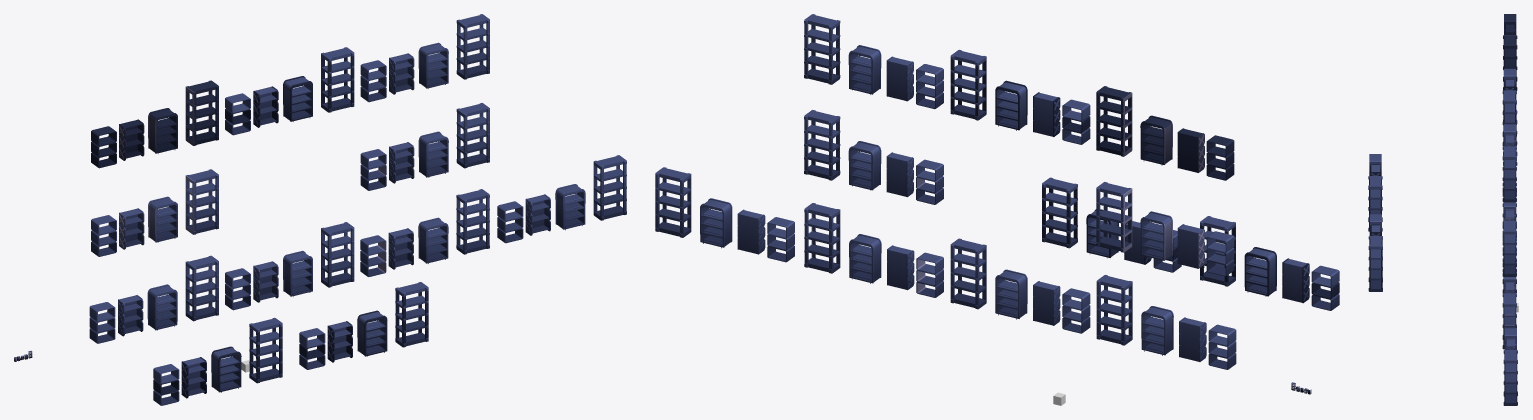
The model's file is Shelf5Layer.fbx.
3 renders of one model, left to right at view 1: azimuth 30°, elevation 25°; view 2: azimuth 150°, elevation 25°; view 3: azimuth 270°, elevation 25°, orthographic. The views are drawn at different scales.
Visible parts, largest first — view 1: Shelf.012, Shelf.4, Shelf.032, Shelf.036, Shelf.020, Shelf.016, Shelf.044, Shelf.008, Shelf.024, Shelf.028, Shelf.040, Shelf.023 (+32 smaller); view 2: Shelf.016, Shelf.032, Shelf.4, Shelf.020, Shelf.008, Shelf.036, Shelf.012, Shelf.040, Shelf.028, Shelf.044, Shelf.007, Shelf.015 (+30 smaller); view 3: Shelf.040, Shelf.008, Shelf.028, Shelf.044, Shelf.024, Shelf.016, Shelf.036, Shelf.032, Shelf.033, Shelf.037, Shelf.005, Shelf.041 (+2 smaller).
Boxes of the visible parts, box(x1,y1,x2,y2) form: Shelf.012: box(185, 255, 218, 321); Shelf.4: box(185, 169, 218, 234); Shelf.032: box(185, 80, 218, 145); Shelf.036: box(321, 47, 354, 112); Shelf.020: box(321, 222, 354, 287); Shelf.016: box(456, 189, 489, 254); Shelf.044: box(395, 282, 428, 347); Shelf.008: box(593, 155, 626, 220); Shelf.024: box(249, 317, 282, 383); Shelf.028: box(456, 103, 489, 168); Shelf.040: box(456, 14, 489, 79); Shelf.023: box(211, 346, 241, 392); Shelf.016: box(804, 203, 840, 273); Shelf.032: box(1096, 86, 1132, 156); Shelf.4: box(1096, 182, 1132, 252); Shelf.020: box(950, 238, 986, 309); Shelf.008: box(655, 167, 691, 237); Shelf.036: box(950, 49, 986, 120); Shelf.012: box(1096, 275, 1132, 345); Shelf.040: box(804, 14, 840, 84); Shelf.028: box(804, 110, 840, 180); Shelf.044: box(1042, 177, 1077, 248); Shelf.007: box(700, 198, 732, 248); Shelf.015: box(849, 234, 881, 283); Shelf.040: box(1502, 146, 1516, 202); Shelf.008: box(1503, 350, 1517, 405); Shelf.028: box(1502, 221, 1516, 276); Shelf.044: box(1368, 236, 1382, 291); Shelf.024: box(1368, 176, 1382, 231); Shelf.016: box(1502, 293, 1516, 349); Shelf.036: box(1502, 90, 1516, 146); Shelf.032: box(1503, 35, 1517, 90); Shelf.033: box(1503, 68, 1515, 90); Shelf.037: box(1503, 124, 1515, 146); Shelf.005: box(1504, 328, 1516, 349); Shelf.041: box(1369, 214, 1381, 235).
Bounding box in the file's own units: 16603 × 7803 × 4235.
Materials: 1 (1 with a texture image).
